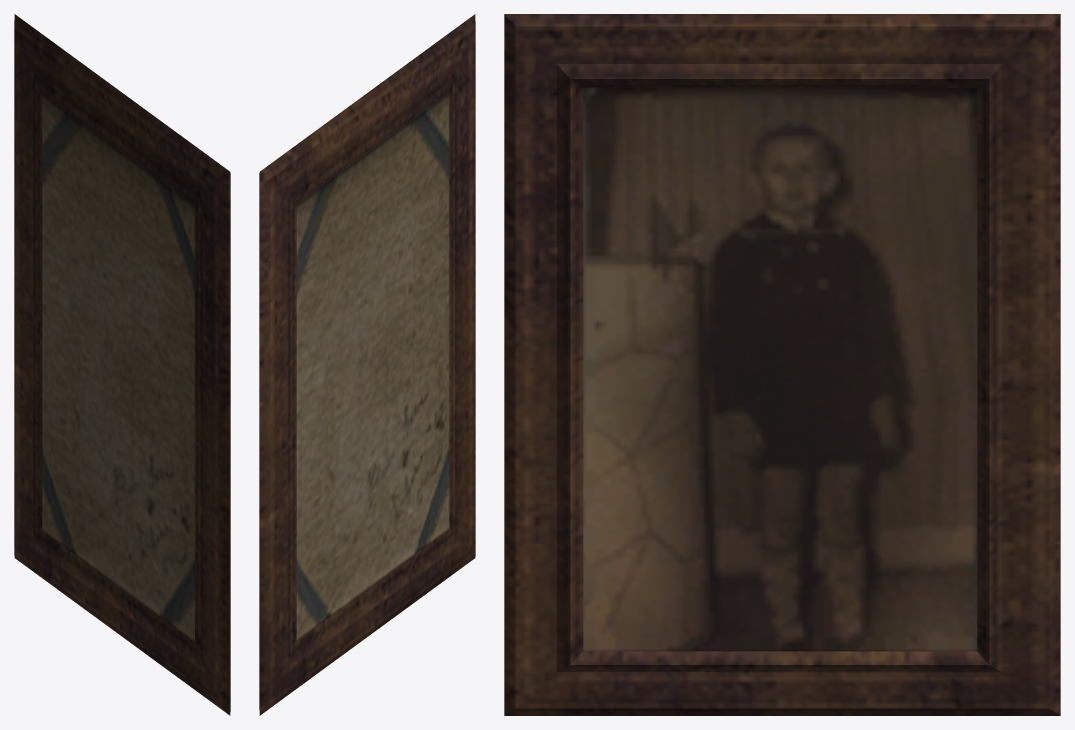
File: picture_frame1.glb
3 renders of one model, left to right at view 1: azimuth 30°, elevation 25°; view 2: azimuth 150°, elevation 25°; view 3: azimuth 270°, elevation 25°, orthographic. The views are drawn at different scales.
Visible parts, largest first — view 1: picture_frame1; view 2: picture_frame1; view 3: picture_frame1.
Boxes of the visible parts, x1,y1,x2,y2 form: picture_frame1: [14, 14, 230, 715]; picture_frame1: [259, 14, 475, 715]; picture_frame1: [504, 14, 1060, 715].
Bounding box in the file's own units: 0.0128 × 0.4102 × 0.2947.
Materials: 1 (1 with a texture image).
